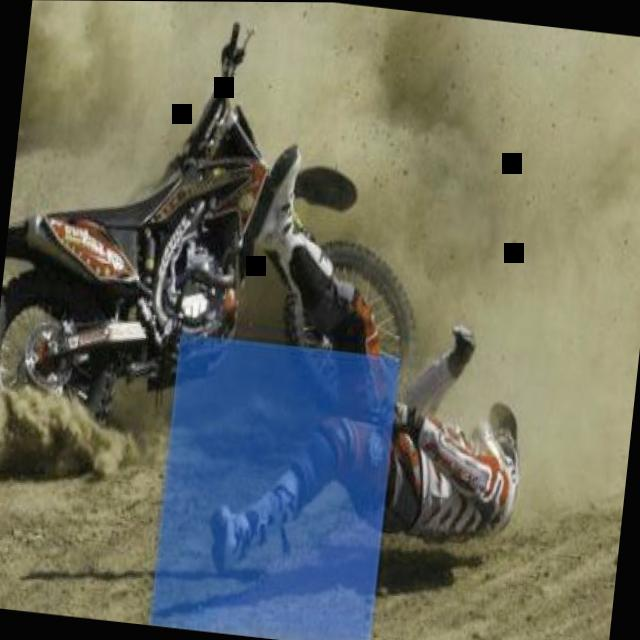Fall-Detected: (169, 112, 562, 634)
